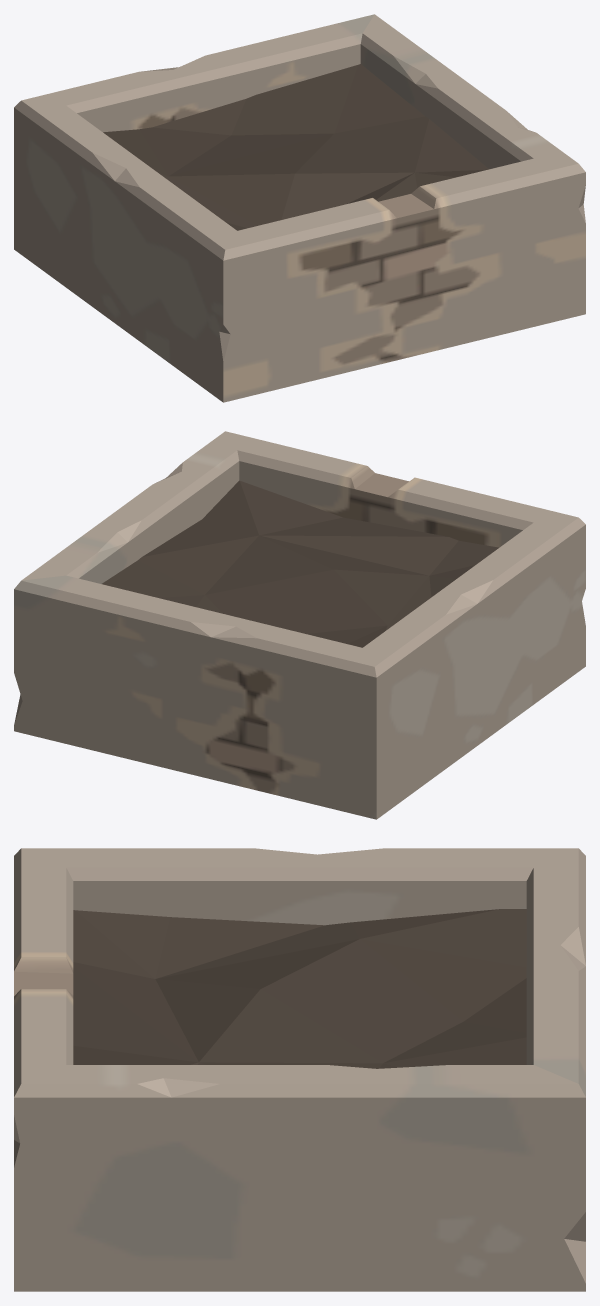
File: SM_Bld_Village_Planter_01.glb
3 views of the same model, one above another, from view 1: azimuth 30°, elevation 25°; view 2: azimuth 150°, elevation 25°; view 3: azimuth 270°, elevation 25° (orthographic). The views are drawn at different scales.
Visible parts, largest first — view 1: SM_Bld_Village_Planter_01; view 2: SM_Bld_Village_Planter_01; view 3: SM_Bld_Village_Planter_01.
Part boxes in pixels (box(x1,y1,x2,y2)): SM_Bld_Village_Planter_01: box(14, 14, 585, 402); SM_Bld_Village_Planter_01: box(14, 431, 585, 819); SM_Bld_Village_Planter_01: box(14, 848, 585, 1291).
Bounding box in the file's own units: 2.4 × 0.9468 × 2.4.
1 material, 1 textured.
